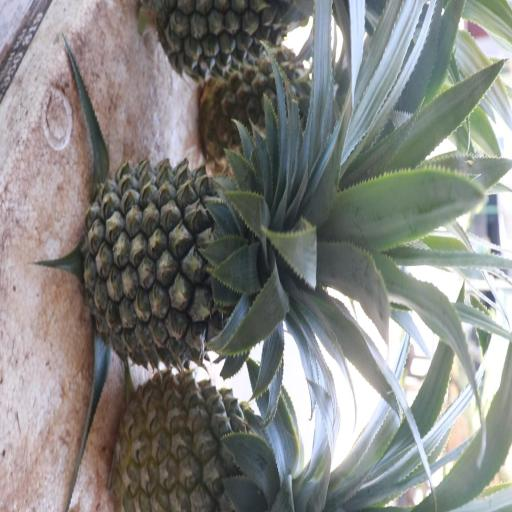------------------------------: (123, 370, 296, 512)
